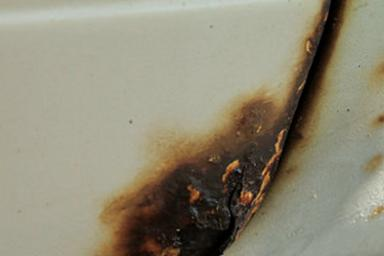rust: (92, 1, 347, 254)
